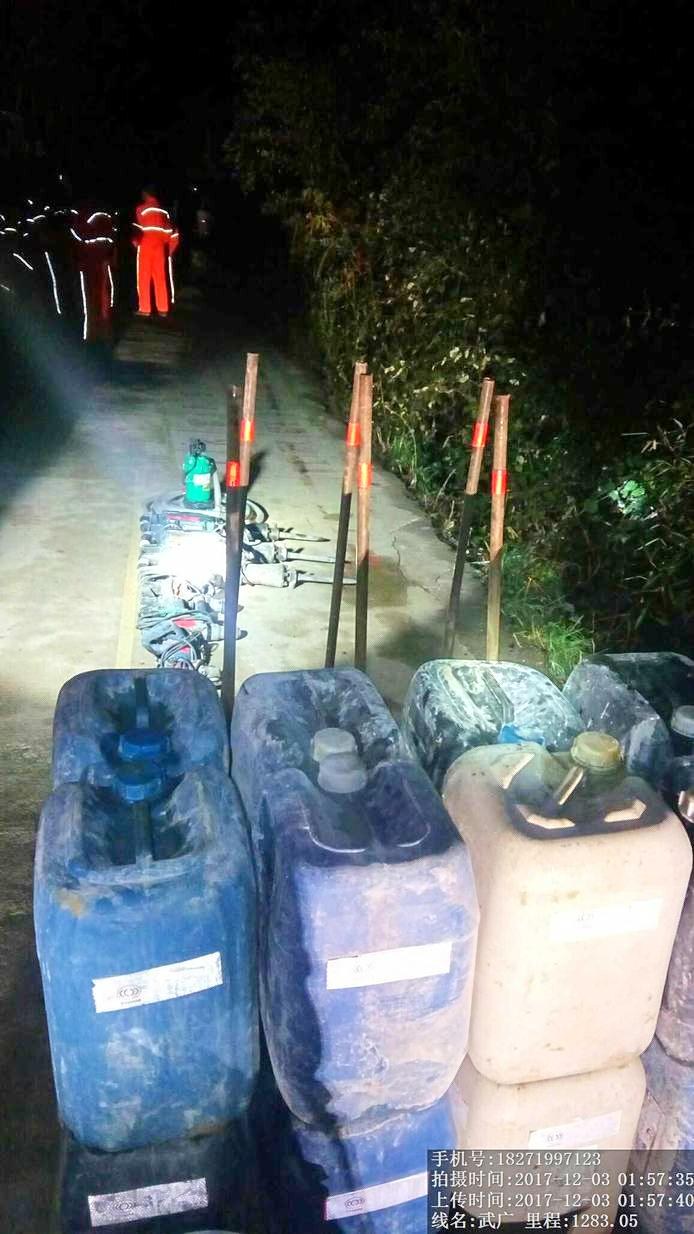SLT: (25, 770, 270, 1135), (259, 757, 478, 1115), (452, 738, 673, 1075)
